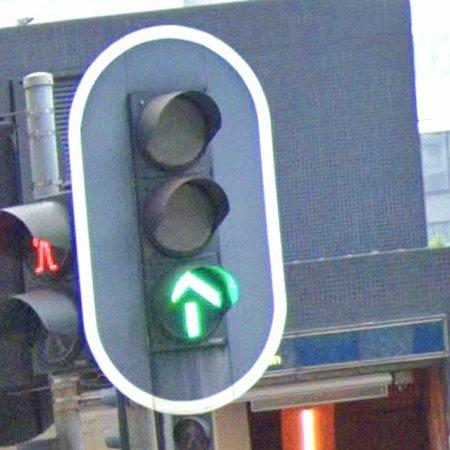traffic lights: (69, 26, 287, 414)
